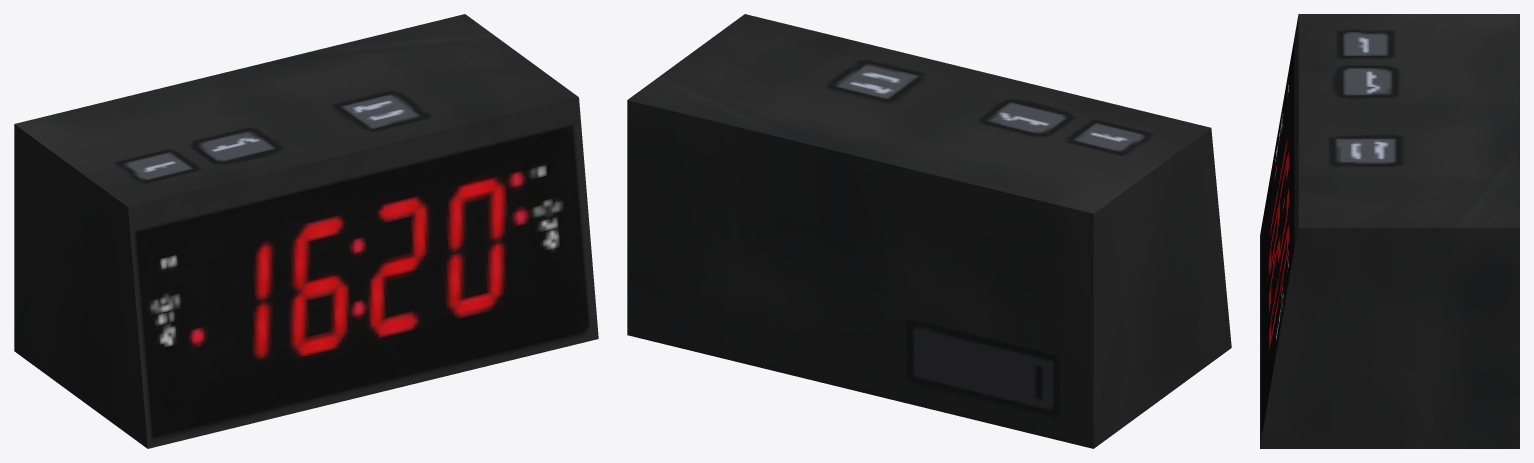
Rendered from Alarm_clock-col.glb.
The picture shows the model from 3 angles, left to right: view 1: azimuth 30°, elevation 25°; view 2: azimuth 150°, elevation 25°; view 3: azimuth 270°, elevation 25°; orthographic projection. The views are drawn at different scales.
Parts seen in each view (by area): view 1: Alarm_clock-col; view 2: Alarm_clock-col; view 3: Alarm_clock-col.
Boxes of the visible parts, x1,y1,x2,y2 form: Alarm_clock-col: [14, 14, 598, 448]; Alarm_clock-col: [627, 14, 1231, 448]; Alarm_clock-col: [1260, 14, 1519, 448].
Bounding box in the file's own units: 1.05 × 0.5062 × 0.5393.
Materials: 1 (1 with a texture image).
